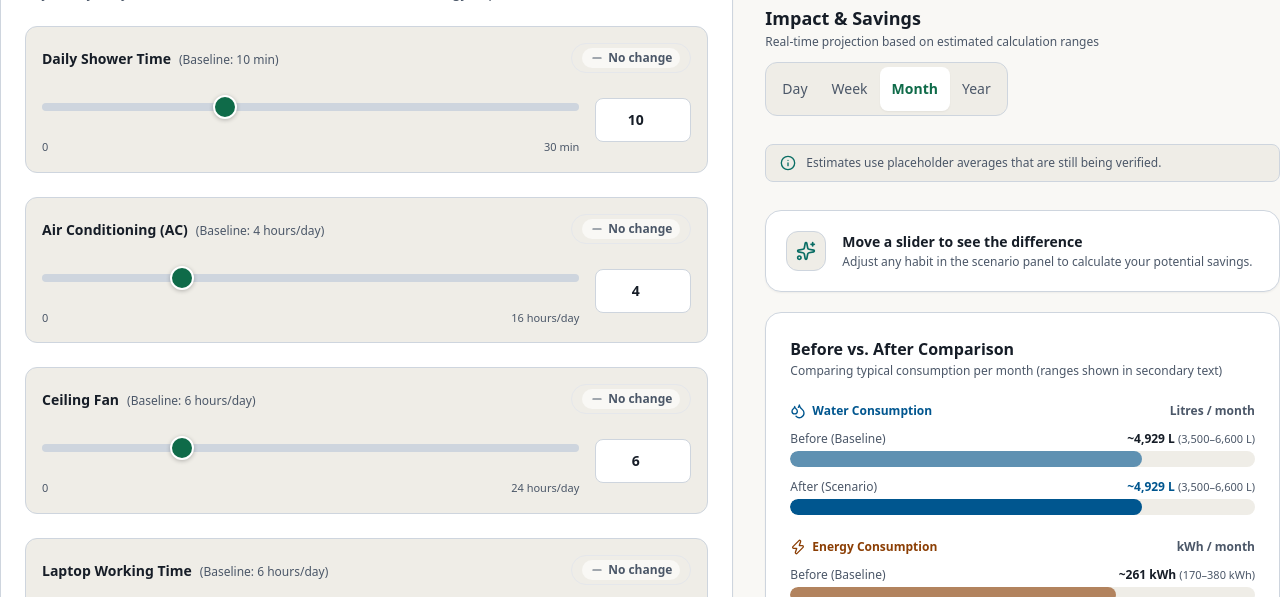
Test case: Simulator Component › handles AC-only reduction by hiding unchanged water resource
(page scrolled)
Replace the text in the number field named "air conditioning (ac) numeric input" with "2" at (643, 291), box [595,269,691,313]
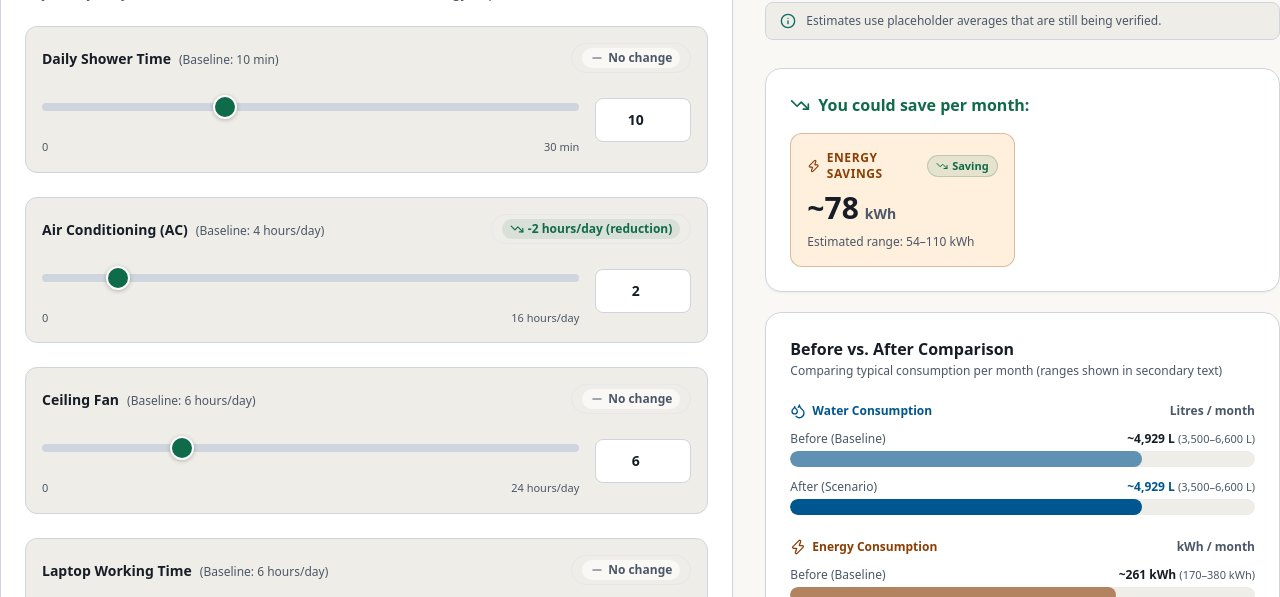
Expected: the text "You could save per month:" is shown, [818,93,1029,117]
Expected: the text "Energy Savings" is shown, [827,149,883,182]
Expected: the text "~78" is shown, [807,190,859,226]
